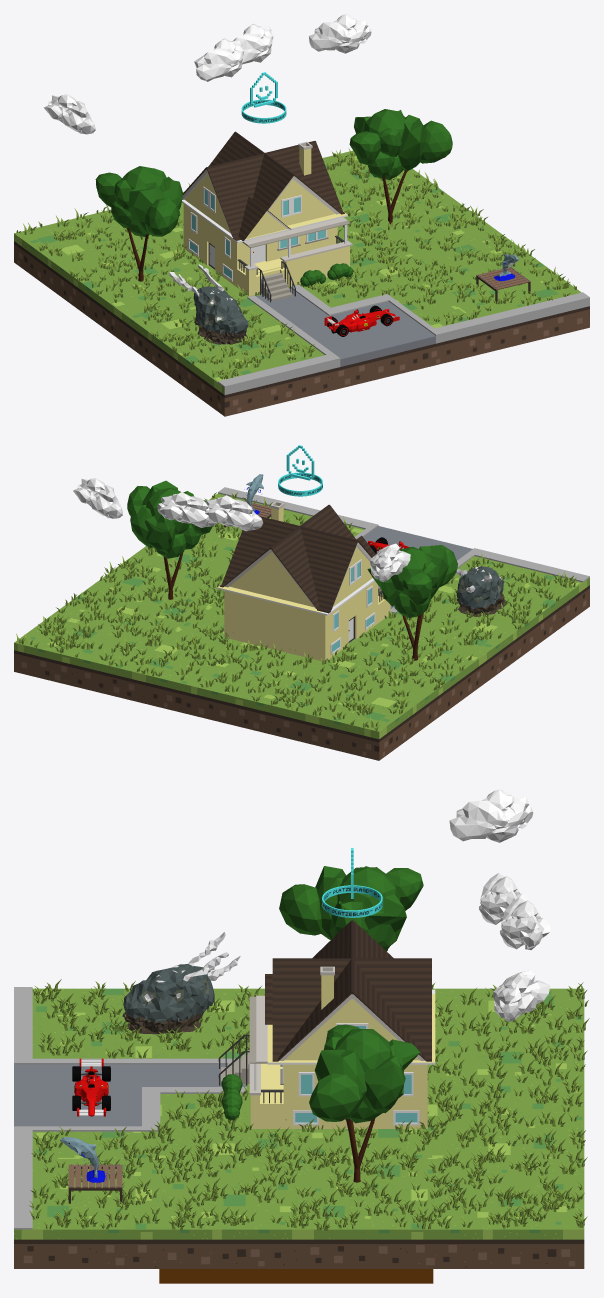
3 renders of one model, top to bottom at view 1: azimuth 30°, elevation 25°; view 2: azimuth 150°, elevation 25°; view 3: azimuth 270°, elevation 25°, orthographic. The views are drawn at different scales.
Parts seen in each view (by area): view 1: Cube.006, Cube.1555, Circle.012_Grass_0.192, Cube.007, tree, tree.001, OBJRANDOM_METEORITE, VEHICLES_FORMULA_1, TYPE_PREMIUM, Cube.009; view 2: Cube.006, Cube.1555, Circle.012_Grass_0.192, Cube.007, tree.001, tree, OBJRANDOM_METEORITE, TYPE_PREMIUM; view 3: Cube.006, Circle.012_Grass_0.192, Cube.1555, tree, Cube.007, tree.001, OBJRANDOM_METEORITE, UNDERGROUND_ART_PIECE_VAN_GOGH, VEHICLES_FORMULA_1, Cube.009, TYPE_PREMIUM, ANIMAL_DELFIN.
Boxes of the visible parts, x1,y1,x2,y2 form: Cube.006: (14,150,589,416); Cube.1555: (181,131,352,302); Circle.012_Grass_0.192: (16,148,576,379); Cube.007: (44,14,371,134); tree: (349,109,452,224); tree.001: (95,166,182,281); OBJRANDOM_METEORITE: (169,264,248,344); VEHICLES_FORMULA_1: (324,305,399,336); TYPE_PREMIUM: (241,72,286,123); Cube.009: (476,267,530,301); Cube.006: (14,487,589,760); Cube.1555: (217,501,390,661); Circle.012_Grass_0.192: (16,492,576,730); Cube.007: (73,478,410,582); tree.001: (367,545,457,660); tree: (127,480,212,599); OBJRANDOM_METEORITE: (456,566,505,616); TYPE_PREMIUM: (278,445,322,496); Cube.006: (14,987,584,1268); Circle.012_Grass_0.192: (29,979,589,1230); Cube.1555: (218,920,435,1128); tree: (309,1024,420,1182); Cube.007: (449,789,550,1021); tree.001: (279,866,423,951); OBJRANDOM_METEORITE: (122,932,240,1034); UNDERGROUND_ART_PIECE_VAN_GOGH: (159,1269,433,1283); VEHICLES_FORMULA_1: (72,1058,110,1116); Cube.009: (68,1164,122,1203); TYPE_PREMIUM: (322,848,382,917); ANIMAL_DELFIN: (60,1137,107,1183).
Size of the model in its own units: 4071 by 2426 by 4040.
41 materials, 5 textured.
